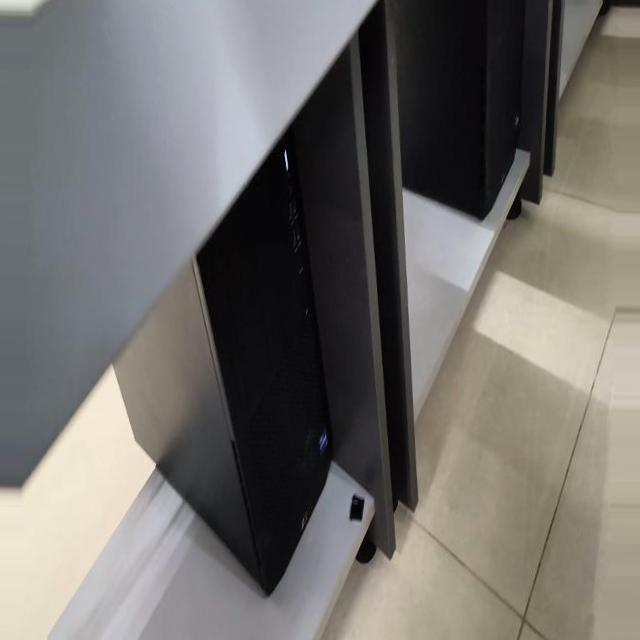Cpu: (98, 134, 335, 593), (395, 0, 536, 217)
